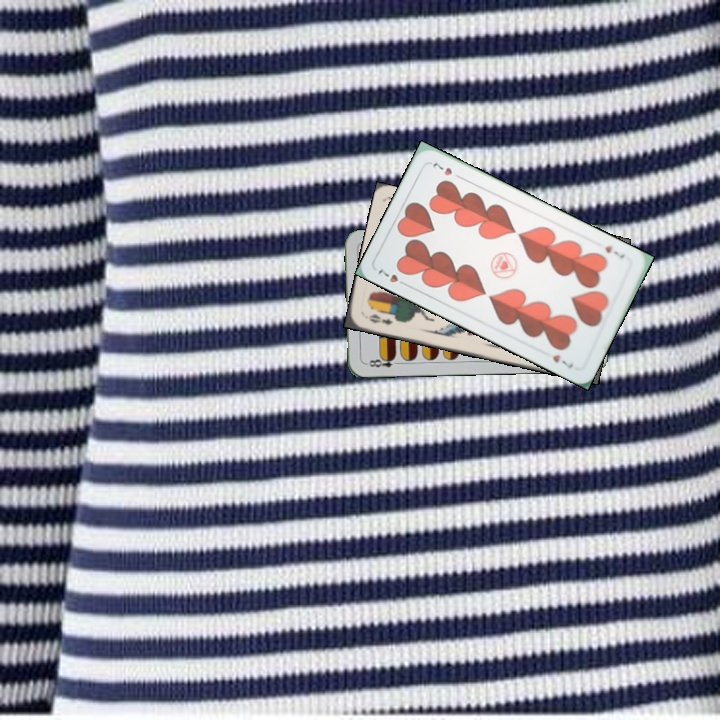E8: (362, 353, 403, 370)
EO: (366, 310, 395, 328)
H7: (374, 265, 411, 289), (601, 242, 627, 262)
